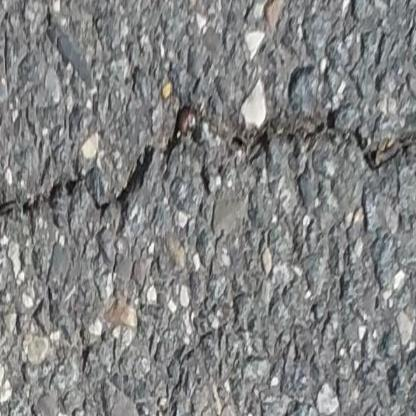Cracks: (226, 106, 342, 155), (95, 141, 161, 225), (163, 102, 215, 199), (0, 173, 45, 233), (355, 130, 416, 174), (46, 177, 83, 213)
